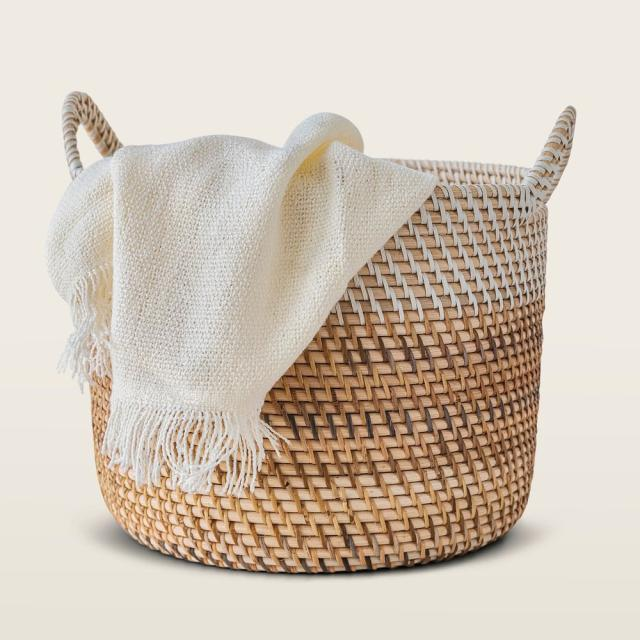blanket: (47, 115, 436, 495)
